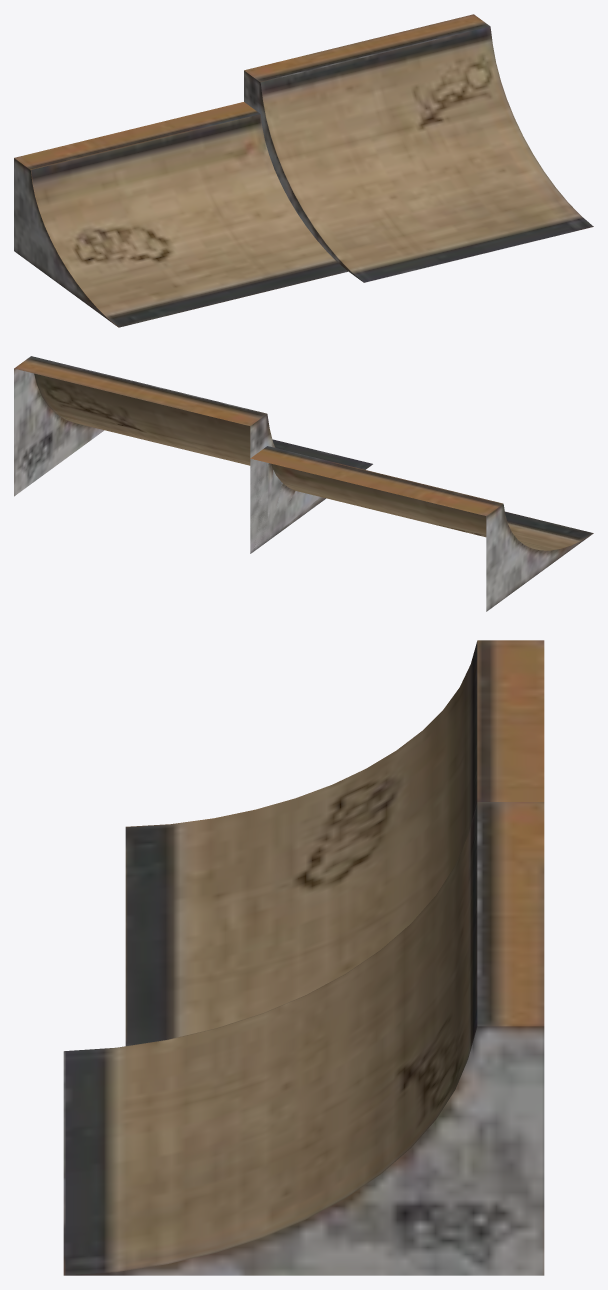
File: skate-ramp.lod1.glb
3 views of the same model, one above another, from view 1: azimuth 30°, elevation 25°; view 2: azimuth 150°, elevation 25°; view 3: azimuth 270°, elevation 25° (orthographic). The views are drawn at different scales.
Visible parts, largest first — view 1: DoubleRamp_M_Ramp2_0; view 2: DoubleRamp_M_Ramp2_0; view 3: DoubleRamp_M_Ramp2_0.
Part boxes in pixels (x1,y1,x2,y2): DoubleRamp_M_Ramp2_0: (14,14,593,327); DoubleRamp_M_Ramp2_0: (14,356,593,611); DoubleRamp_M_Ramp2_0: (63,640,544,1275).
Bounding box in the file's own units: 10.33 × 2.68 × 4.67.
Materials: 1 (1 with a texture image).
